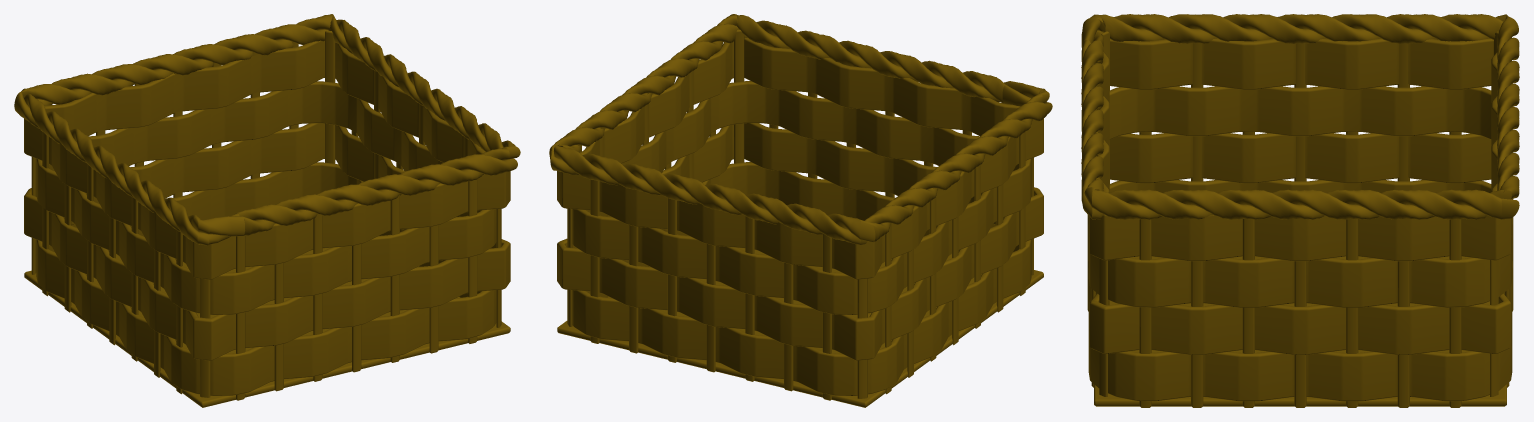
Rendered from kago.fbx.
The picture shows the model from 3 angles, left to right: view 1: azimuth 30°, elevation 25°; view 2: azimuth 150°, elevation 25°; view 3: azimuth 270°, elevation 25°; orthographic projection. The views are drawn at different scales.
Parts seen in each view (by area): view 1: polySurface2, polySurface4, polySurface6, pCylinder3, polySurface7, pCube2, polySurface8; view 2: polySurface2, polySurface4, polySurface6, pCylinder3, polySurface7, pCube2, polySurface8; view 3: polySurface4, polySurface6, polySurface2, pCylinder3, polySurface7, pCube2, polySurface8.
Part boxes in pixels (x1,y1,x2,y2): polySurface2: [24, 40, 510, 279]; polySurface4: [36, 81, 496, 314]; polySurface6: [24, 123, 510, 360]; pCylinder3: [14, 14, 520, 245]; polySurface7: [36, 162, 496, 395]; pCube2: [31, 30, 501, 400]; polySurface8: [24, 247, 510, 407]; polySurface2: [557, 38, 1043, 279]; polySurface4: [572, 81, 1031, 314]; polySurface6: [557, 123, 1043, 360]; pCylinder3: [549, 14, 1052, 244]; polySurface7: [572, 162, 1031, 395]; pCube2: [567, 29, 1033, 400]; polySurface8: [557, 247, 1043, 407]; polySurface4: [1088, 86, 1512, 307]; polySurface6: [1087, 133, 1513, 354]; polySurface2: [1087, 38, 1513, 261]; pCylinder3: [1081, 14, 1519, 219]; polySurface7: [1088, 180, 1512, 401]; pCube2: [1091, 29, 1509, 407]; polySurface8: [1094, 256, 1506, 406].
Size of the model in its own units: 106 by 58.23 by 106.
